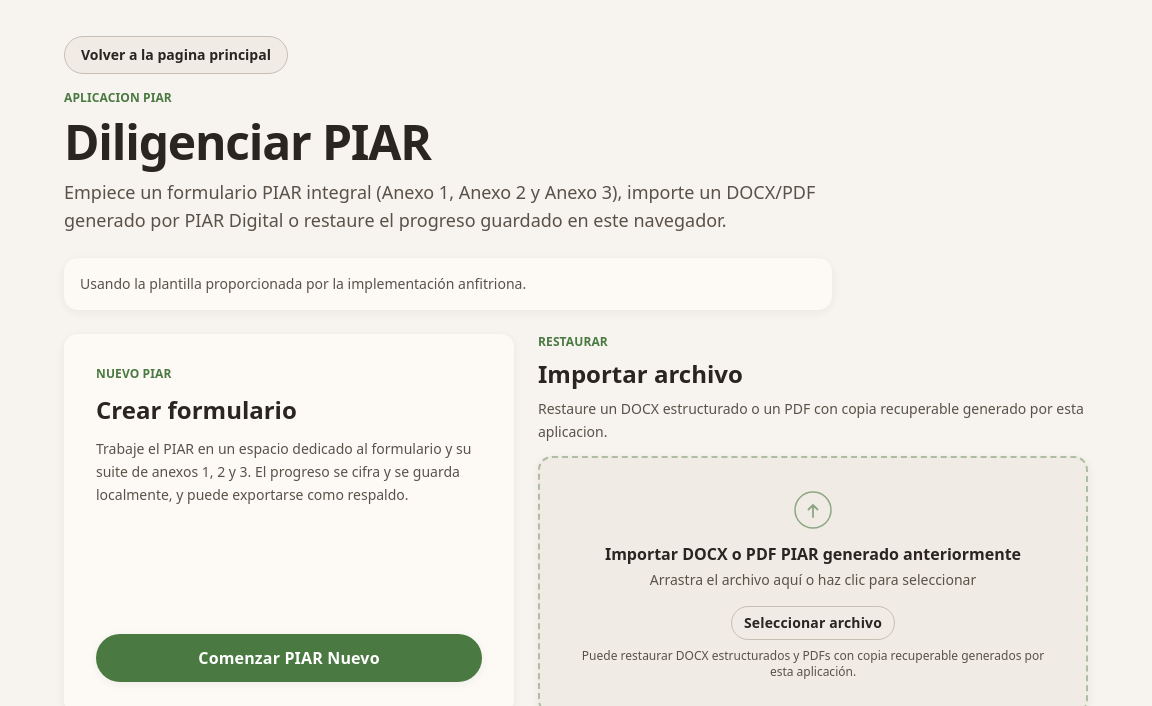
Test: Landing and restore smoke › keeps the form open when returning to app start fails to save
The image size is (1152, 706).
Click the button "Comenzar PIAR Nuevo" at (289,658), box [96,634,482,682]
(page scrolled)
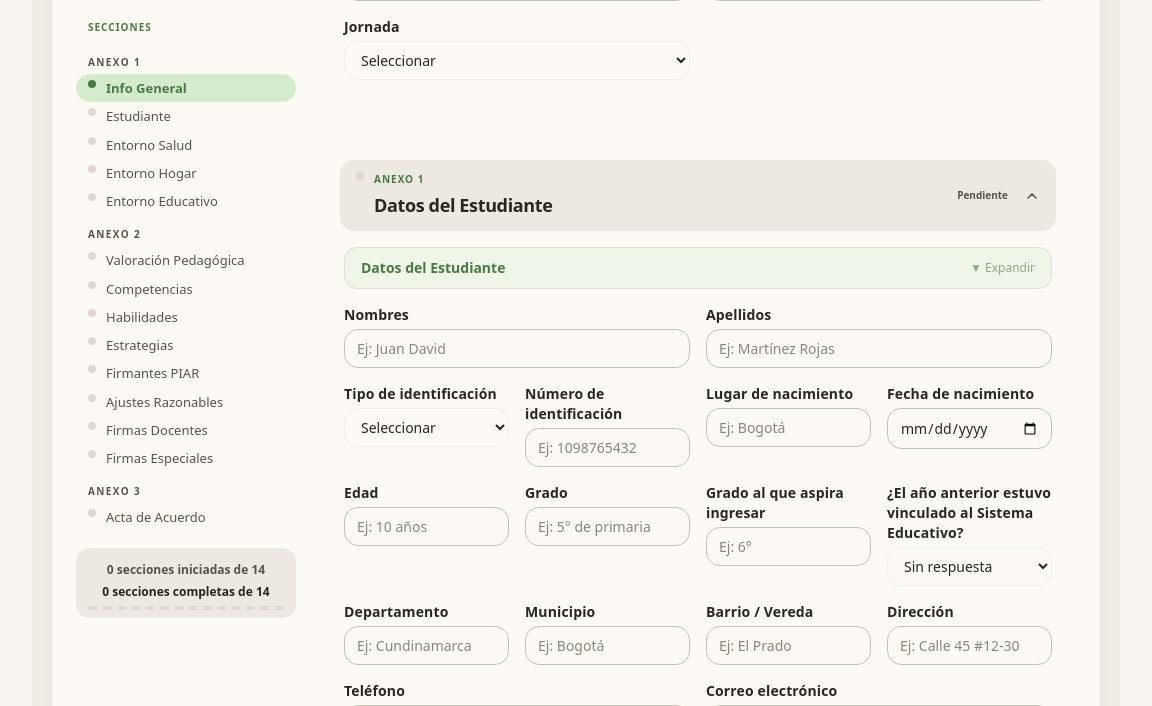
Type "Ana" into the field labelled "Nombres" at (517,348), box [344,329,690,368]
(page scrolled)
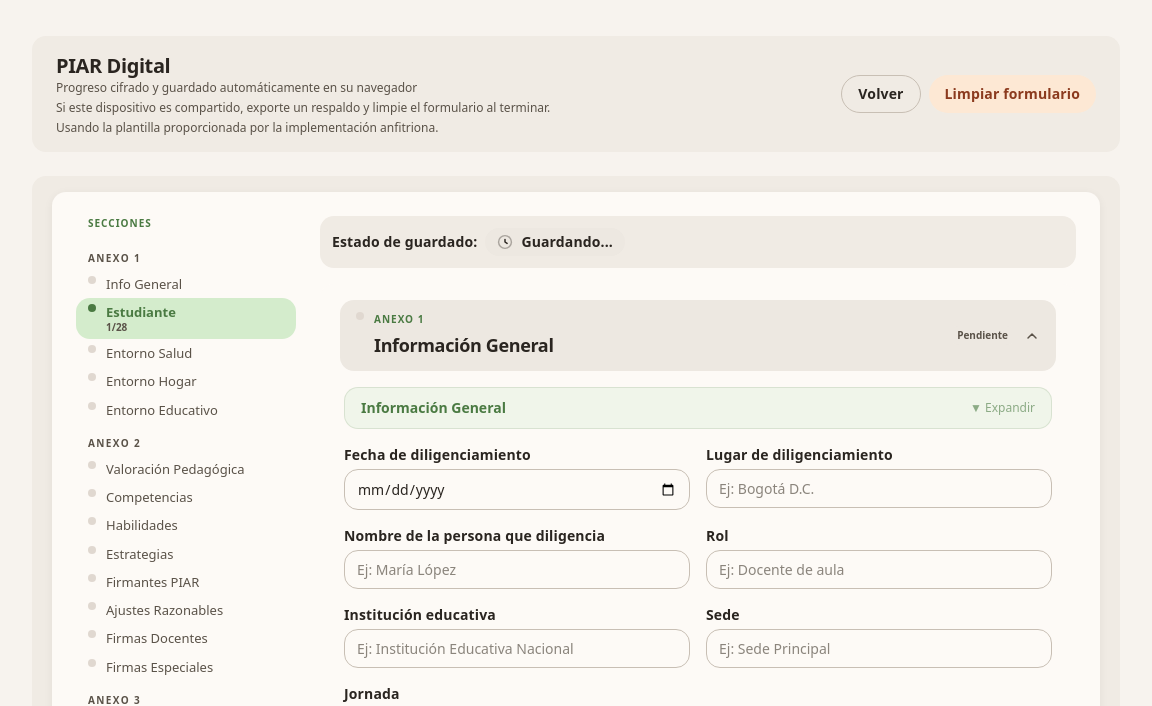
Click the button "Volver" at (881,94), box [841,75,921,113]
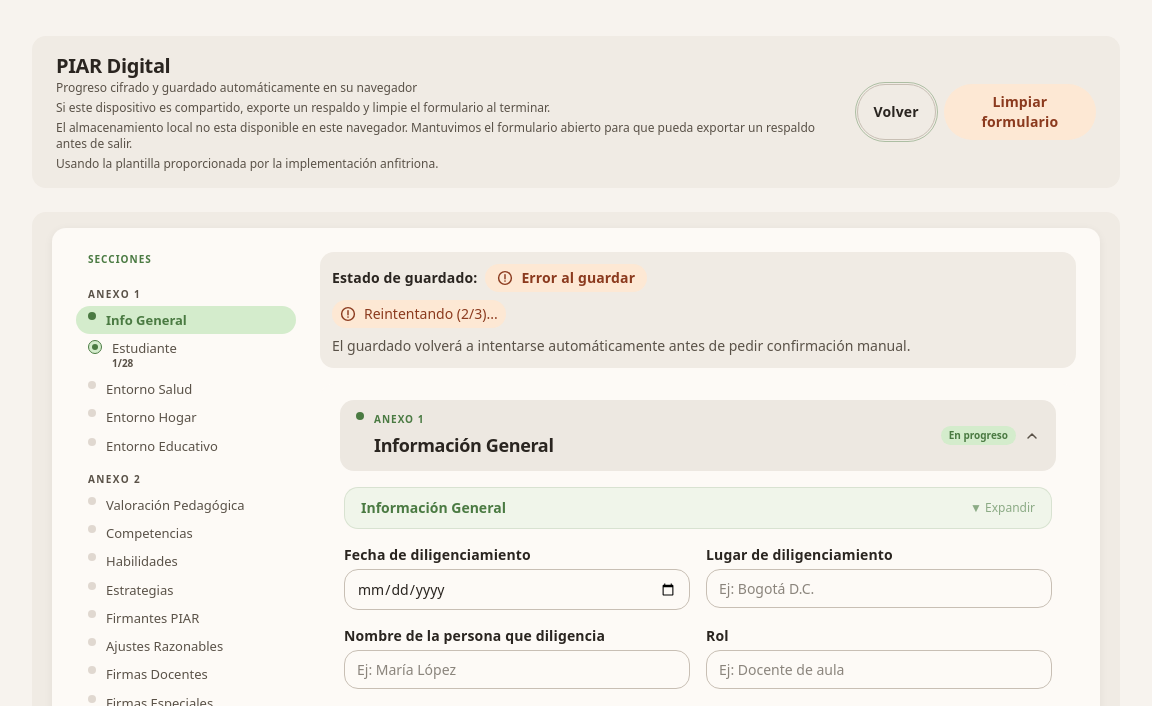
Expected: the text "mantuvimos el formulario abierto" is shown, [56,119,815,152]
